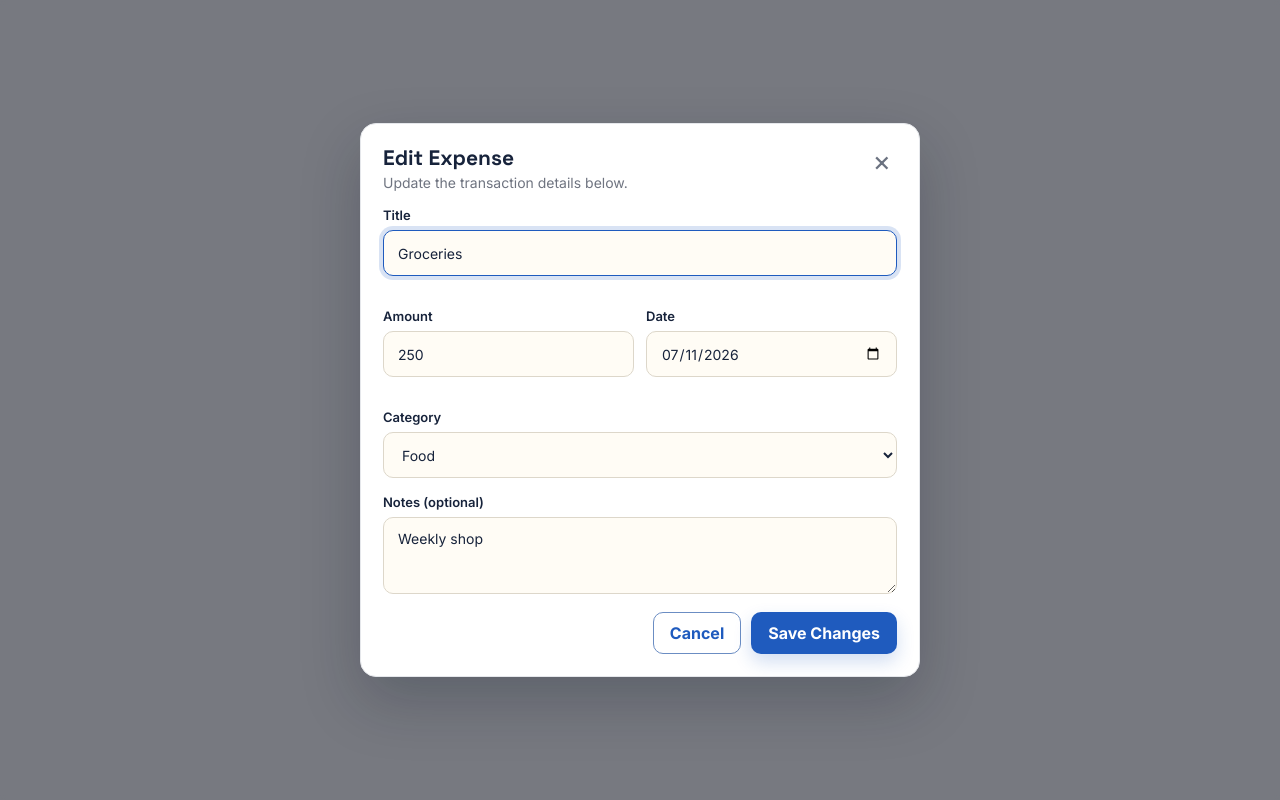
Test: rejects a non-positive amount before saving
The width and height of the screenshot is (1280, 800).
Replace the text in the number field labelled "Amount" with "0" at coordinates (508, 354), box [383,331,634,377]
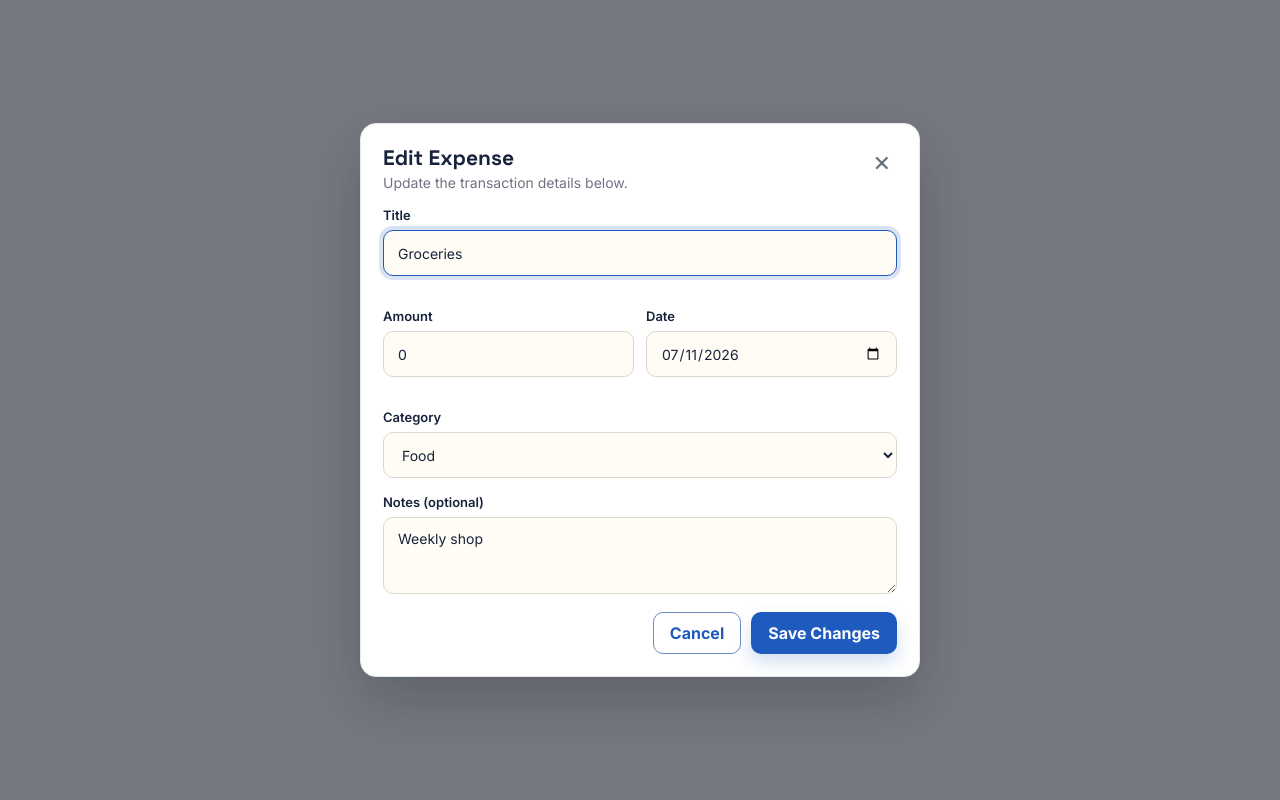
Click the button "Save Changes".
click(824, 633)  # box [751,612,897,654]
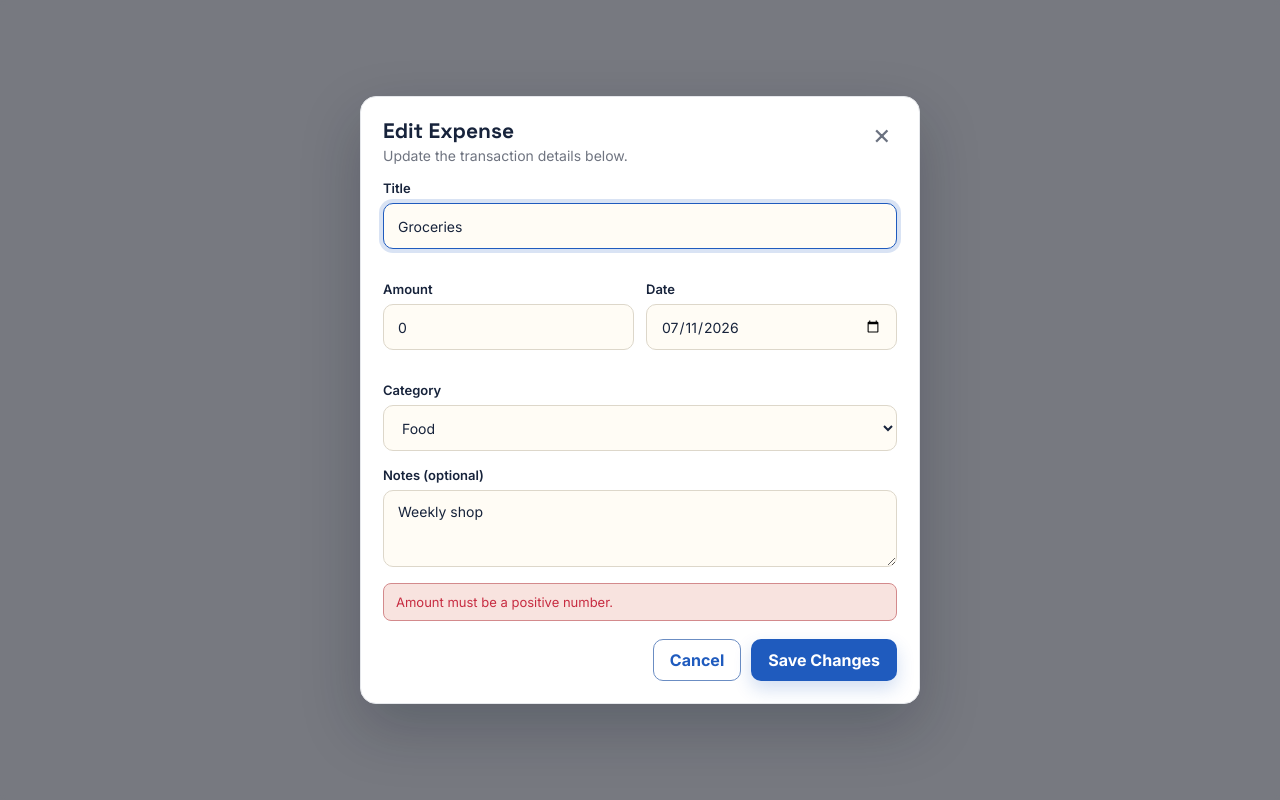
Expected: the message reads "Amount must be a positive number.", [396,594,613,610]
